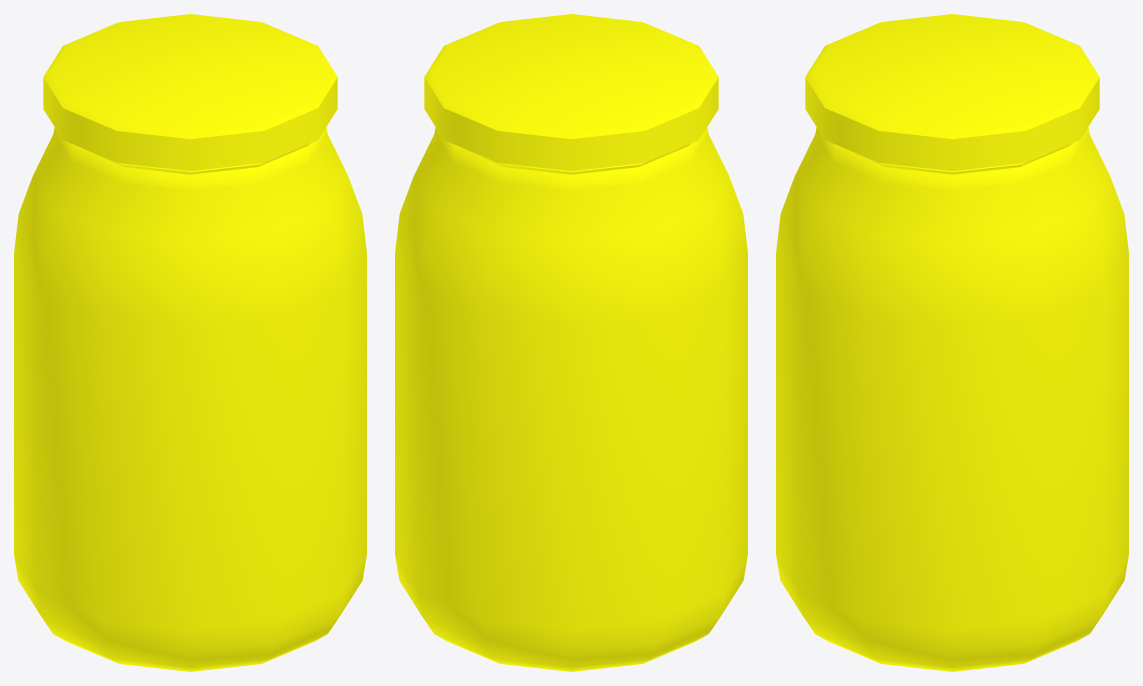
File: jam_jar_medium.glb
3 views of the same model, side by side, from view 1: azimuth 30°, elevation 25°; view 2: azimuth 150°, elevation 25°; view 3: azimuth 270°, elevation 25° (orthographic).
Parts seen in each view (by area): view 1: jam_jar_mp_1_medium; view 2: jam_jar_mp_1_medium; view 3: jam_jar_mp_1_medium.
Part boxes in pixels (x1,y1,x2,y2): jam_jar_mp_1_medium: (14,14,366,671); jam_jar_mp_1_medium: (395,14,747,671); jam_jar_mp_1_medium: (776,14,1128,671).
Bounding box in the file's own units: 0.1455 × 0.2453 × 0.1455.
Materials: 1 (1 with a texture image).
